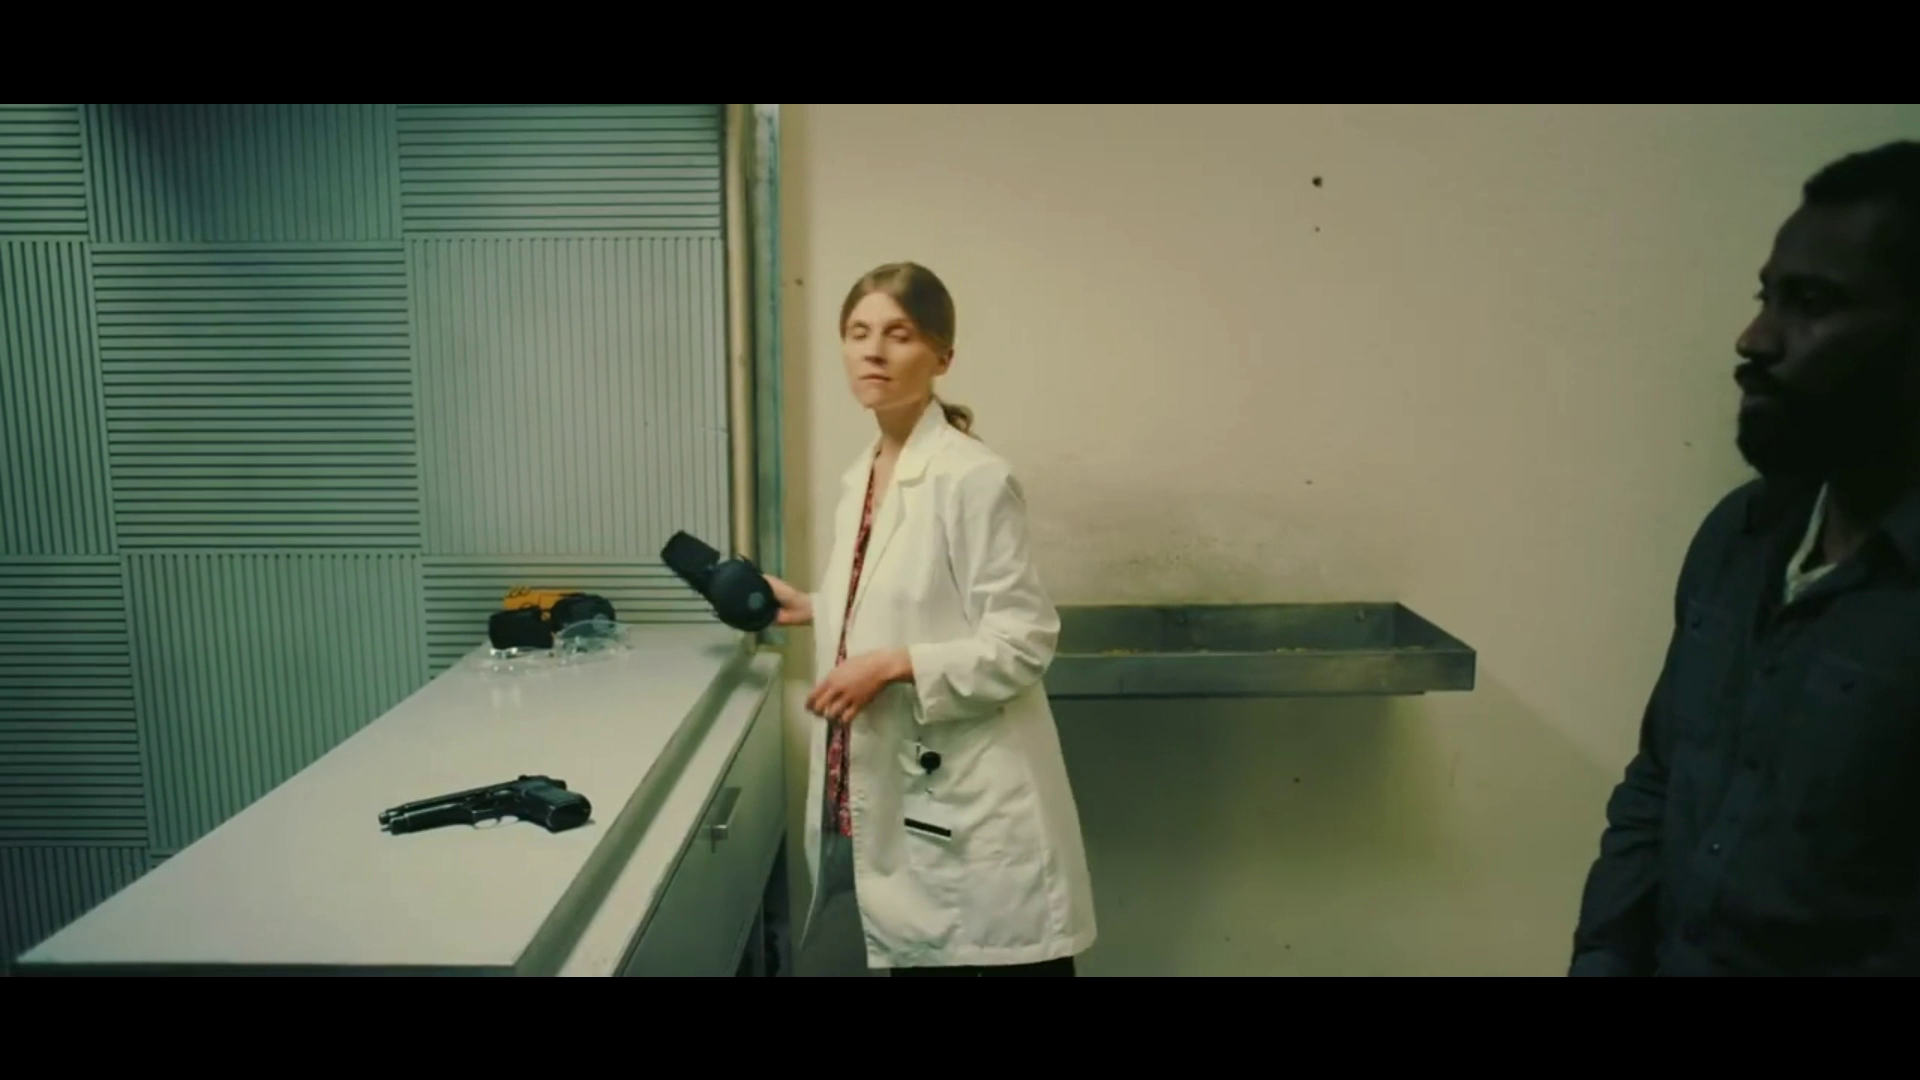SIG P226: (385, 778, 595, 837)
